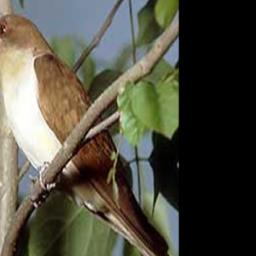Cuckoo: (0, 10, 178, 256)
